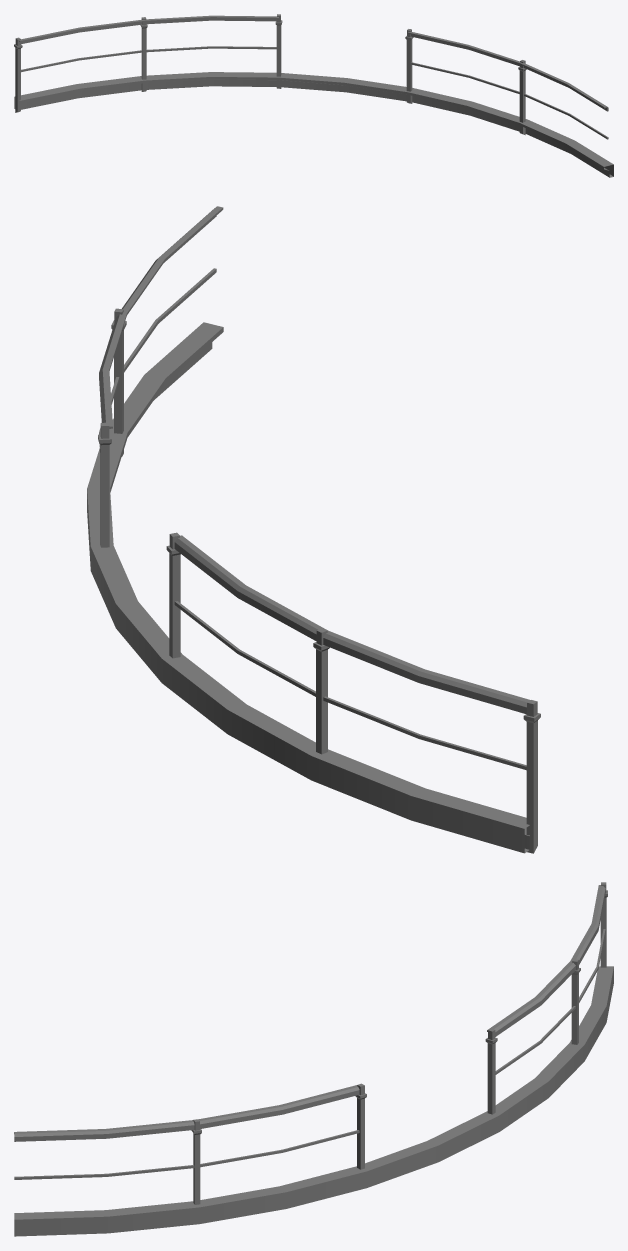
Rendered from tesla_modules_core_inner_railing_01.dae.
3 views of the same model, one above another, from view 1: azimuth 30°, elevation 25°; view 2: azimuth 150°, elevation 25°; view 3: azimuth 270°, elevation 25° (orthographic). The views are drawn at different scales.
Parts seen in each view (by area): view 1: tesla_core_inner_railing_01; view 2: tesla_core_inner_railing_01; view 3: tesla_core_inner_railing_01.
Part boxes in pixels (<box>): tesla_core_inner_railing_01: <box>14,14,613,177</box>; tesla_core_inner_railing_01: <box>87,206,540,853</box>; tesla_core_inner_railing_01: <box>14,882,613,1236</box>.
Bounding box in the file's own units: 7553 × 1408 × 7507.
